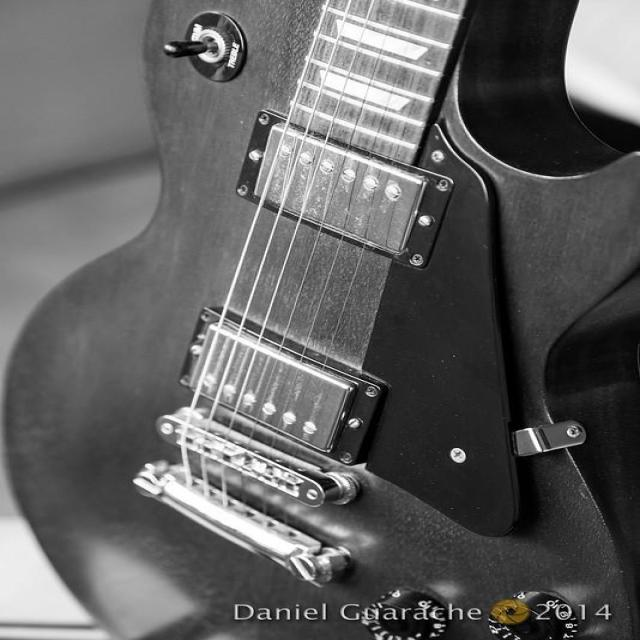guitar: (6, 0, 639, 639)
